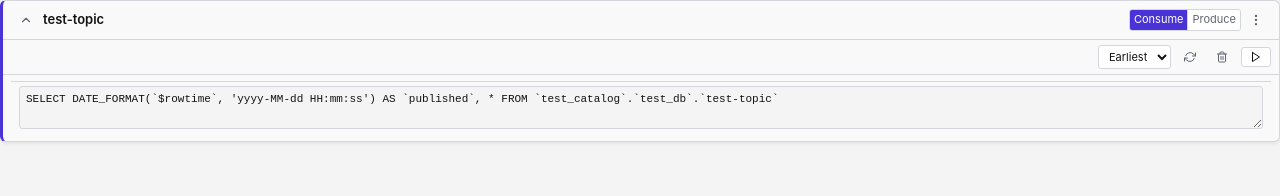
[@stream-card-modes] StreamCard Modes › dataset dropdown visible when dataset source selected in P&C mode
The width and height of the screenshot is (1280, 196).
Click the button "Produce". click: (1214, 20)
box: [1188,10,1240,30]
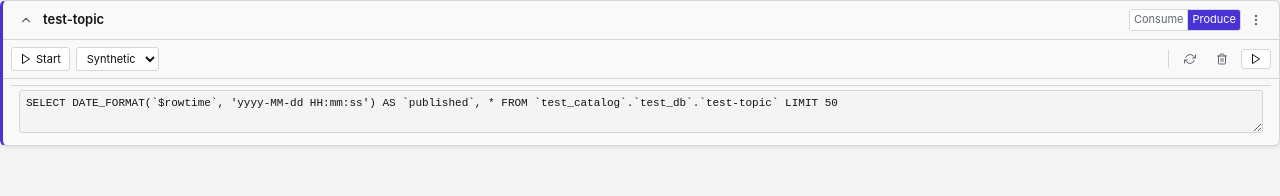
Select "Dataset" in the dropdown named "Data source". click: (117, 59)
box: [76,47,159,71]
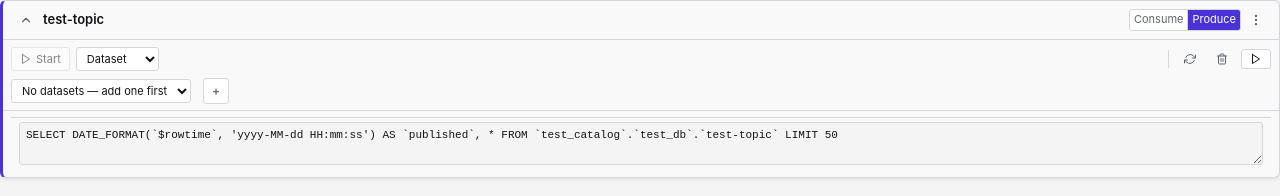
Check: the dropdown named "Select dataset" is shown, box [11,79,191,103]
